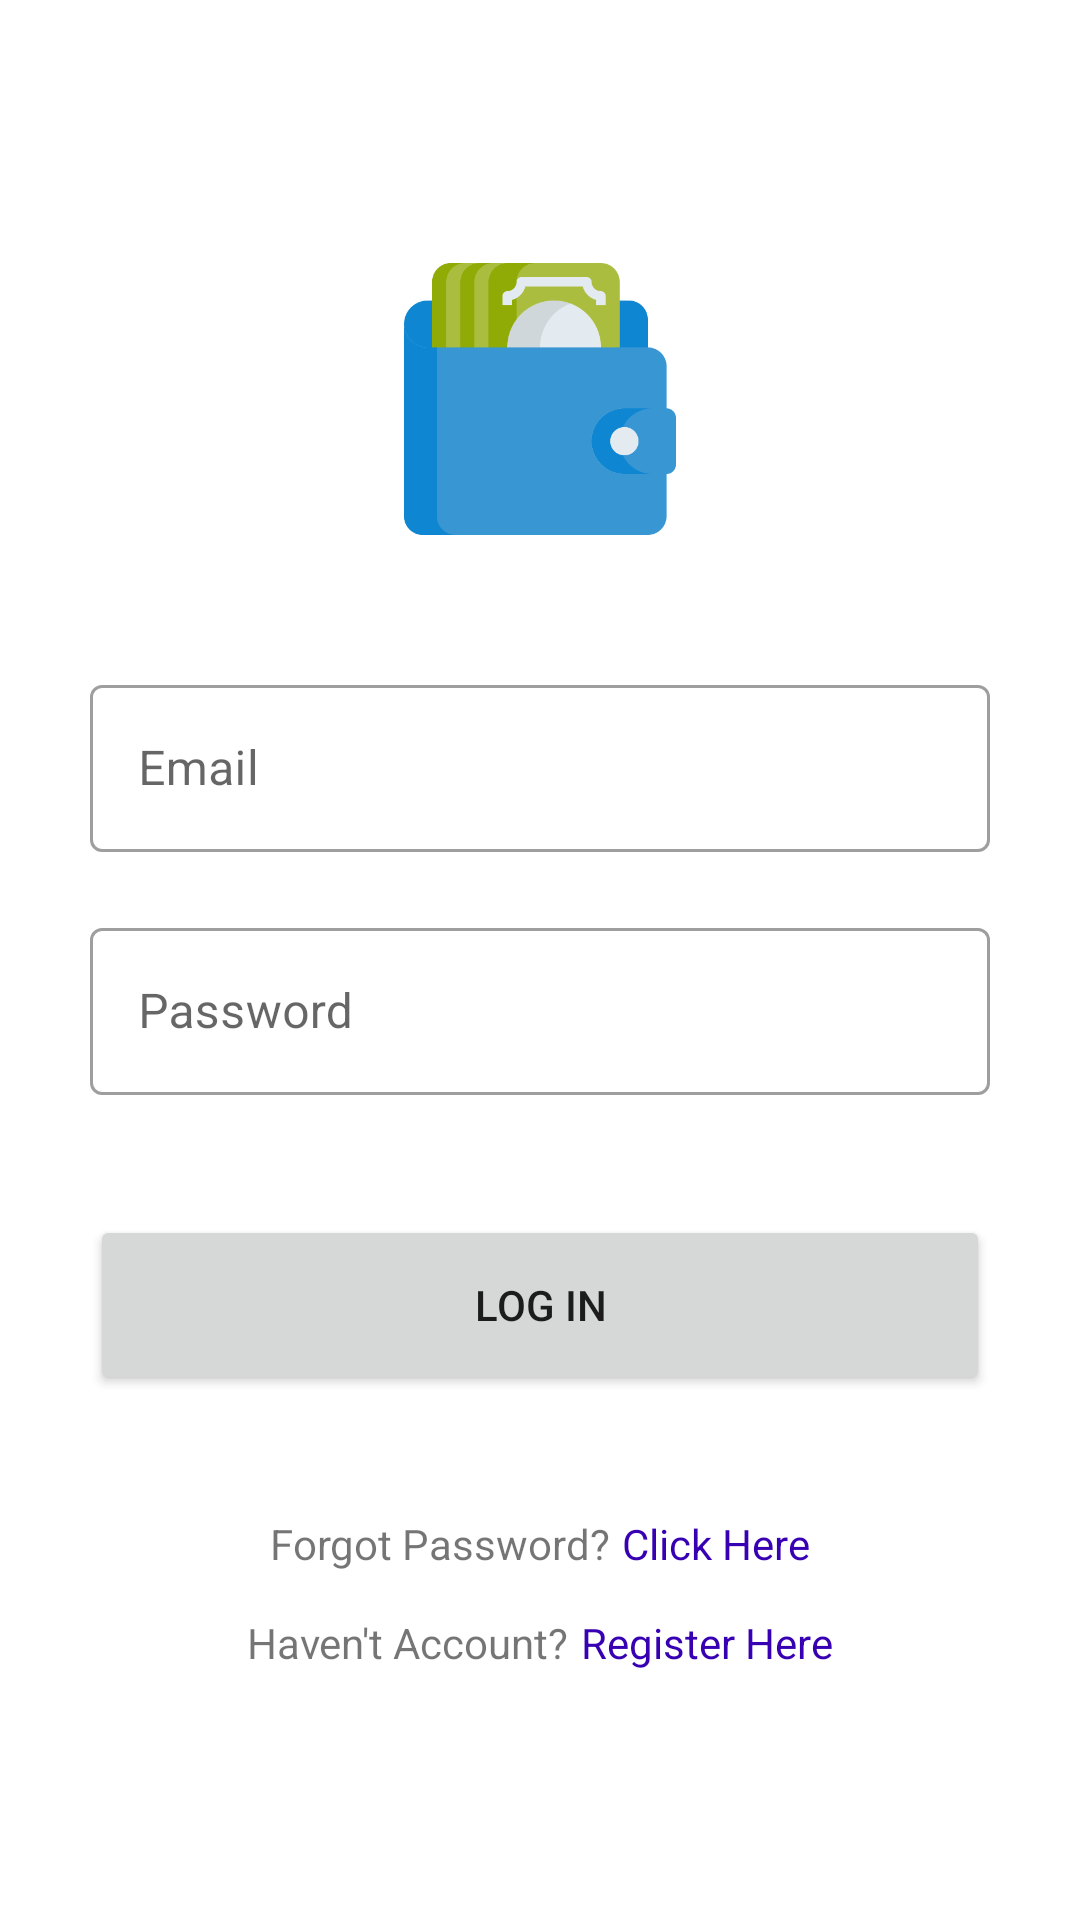

Screen size 1080 × 1920. Icon name, then its center in pixels as [x,y]:
wallet: [540,399]
